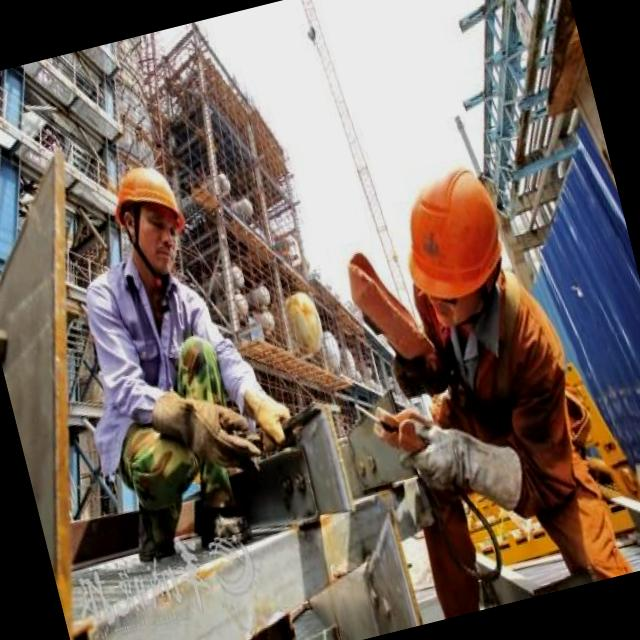helmet: (376, 160, 530, 310), (108, 154, 190, 240)
no-vest: (396, 294, 599, 529), (73, 261, 235, 454)
